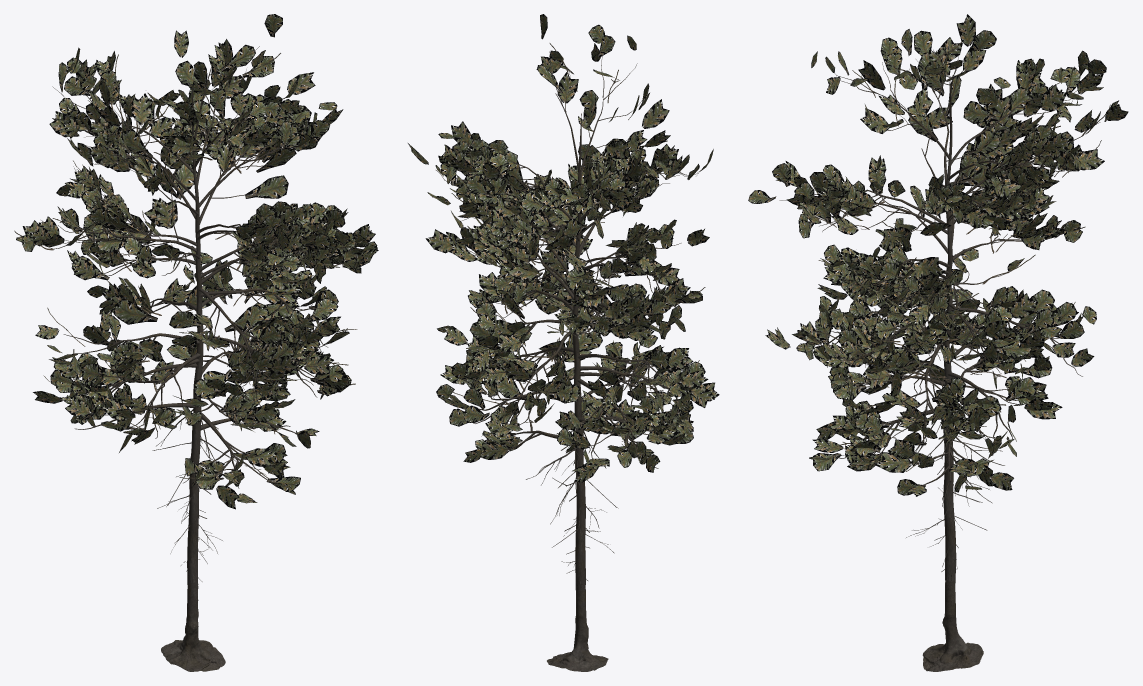
The model's file is pine_b.glb.
3 views of the same model, side by side, from view 1: azimuth 30°, elevation 25°; view 2: azimuth 150°, elevation 25°; view 3: azimuth 270°, elevation 25° (orthographic). The views are drawn at different scales.
Visible parts, largest first — view 1: pine_tree_01_b_LOD2; view 2: pine_tree_01_b_LOD2; view 3: pine_tree_01_b_LOD2.
Boxes of the visible parts, x1=… form: pine_tree_01_b_LOD2: x1=14, y1=14, x2=378, y2=671; pine_tree_01_b_LOD2: x1=408, y1=14, x2=719, y2=671; pine_tree_01_b_LOD2: x1=748, y1=14, x2=1128, y2=671.
Size of the model in its own units: 7.58 by 15.02 by 7.82.
4 materials, 4 textured.
